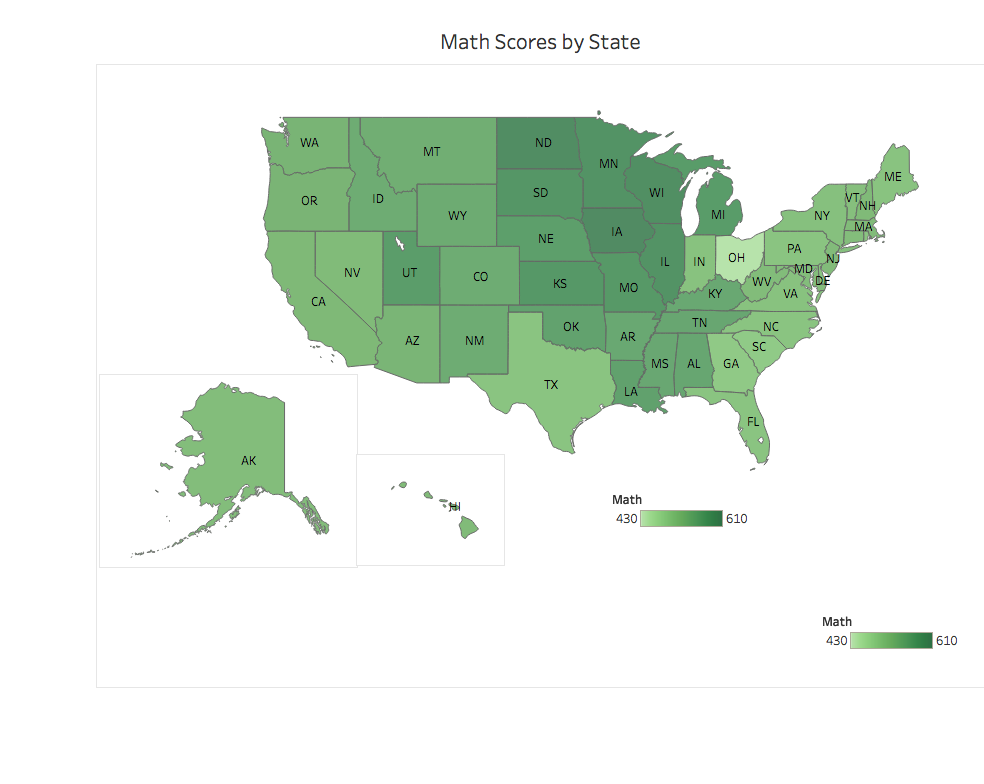

This screenshot's page, from the dashboard's own definition file:
{"tool":"tableau","page":{"name":"Dashboard 1","canvas":[1000,800],"ordinal":0},"visuals":[{"type":"worksheet","title":"Sheet 4","mark":"Automatic","box":[104,29,889,667]},{"type":"worksheet","title":"Sheet 3","mark":"Automatic","box":[107,382,259,194]},{"type":"worksheet","title":"Sheet 2","mark":"Automatic","box":[364,462,149,112]},{"type":"legend","title":"Sheet 2","param":"[federated.0wc6woz1llvodz1g9o2uu19z8b8c].[sum:Verbal:qk]","box":[620,495,140,57]},{"type":"legend","title":"Sheet 4","param":"[federated.0wc6woz1llvodz1g9o2uu19z8b8c].[sum:Verbal:qk]","box":[830,617,140,57]}]}

Visuals, with their boxes in screenshot pixels (x1, y1, x2, y2), scaled from the page's 1000x800 canvas onto the 984x784 screenshot:
"Sheet 4" worksheet: 102/28/977/682
"Sheet 3" worksheet: 105/374/360/564
"Sheet 2" worksheet: 358/453/505/563
"Sheet 2" legend: 610/485/748/541
"Sheet 4" legend: 817/605/954/661
